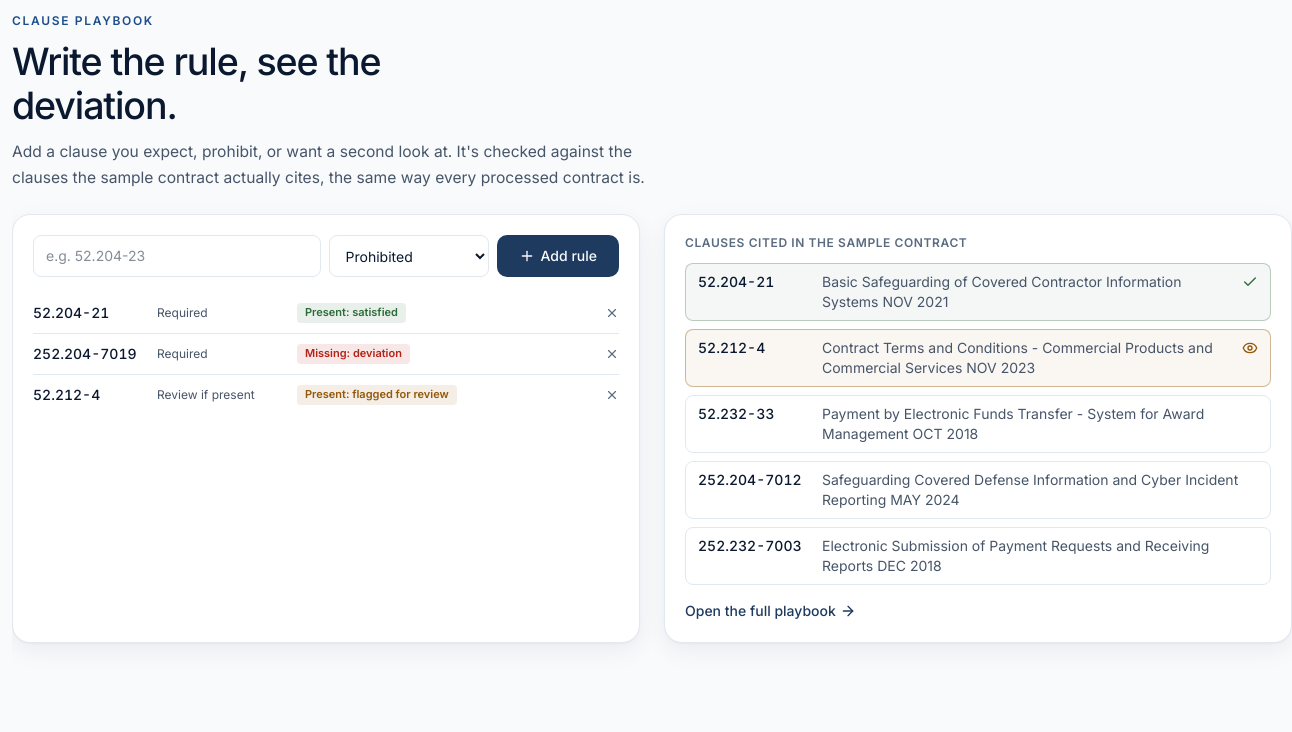
PlaybookPreview › rejects a value that isn't a clause number
The width and height of the screenshot is (1292, 732).
In the field named "Clause number": (177, 256) [33, 235, 320, 277], type "cyber"
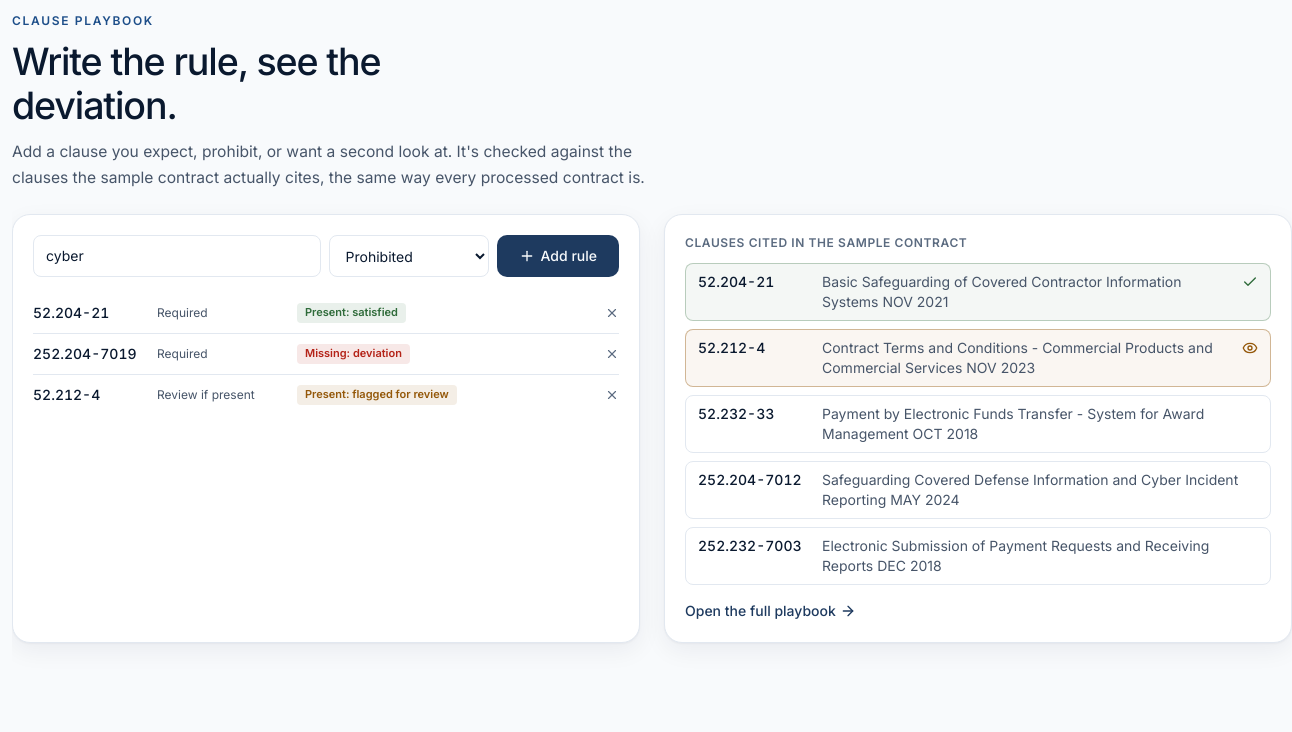
Click the button "Add rule": click(558, 256) [496, 235, 619, 277]
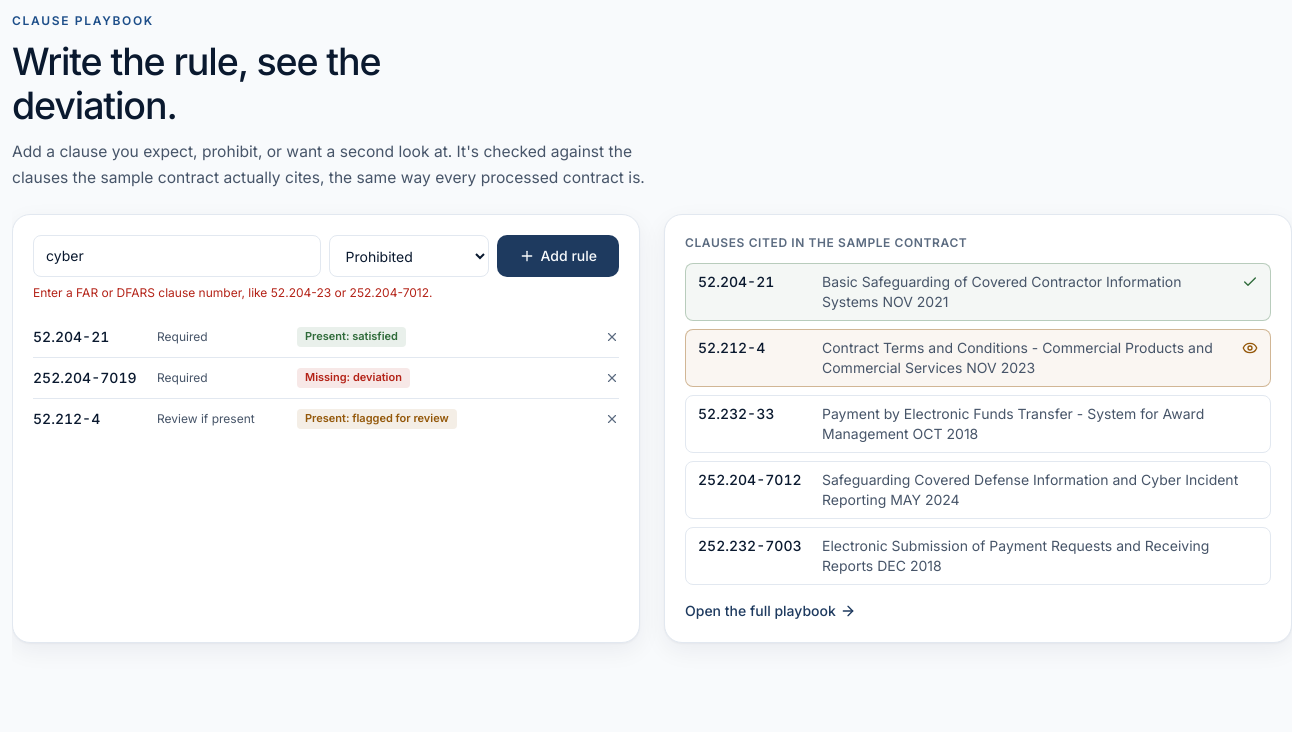
Check: the text "Enter a FAR or DFARS clause number" is shown, box [33, 285, 432, 300]
